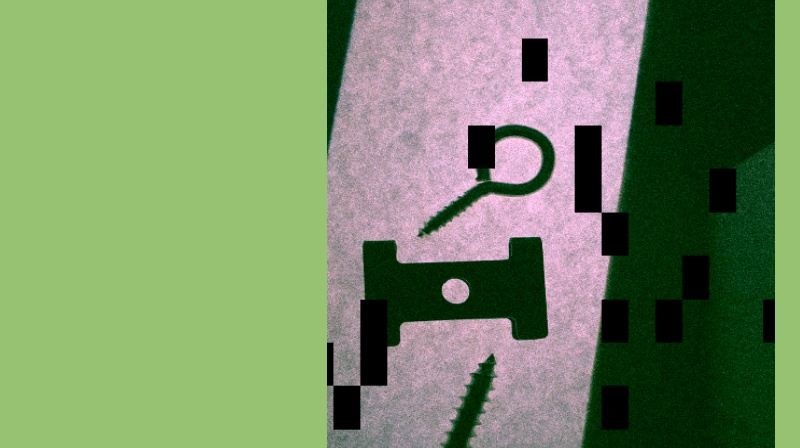O001: (414, 121, 556, 236)
O002: (360, 230, 547, 350)
S001: (399, 349, 500, 447)
